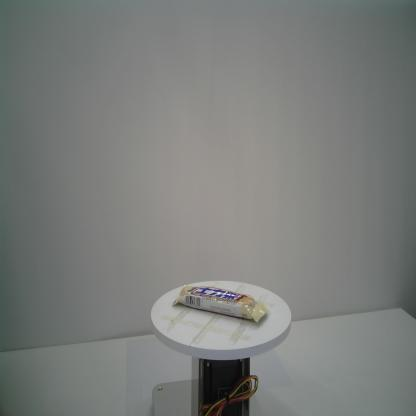Chocolate: (171, 282, 268, 325)
